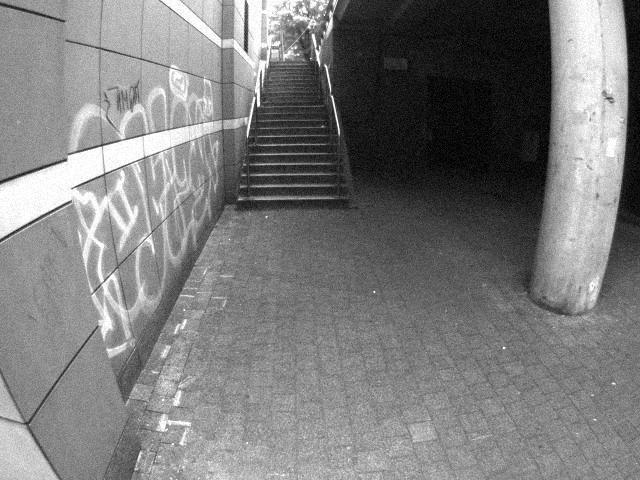Escaleras: (236, 95, 354, 202), (241, 61, 334, 102)
